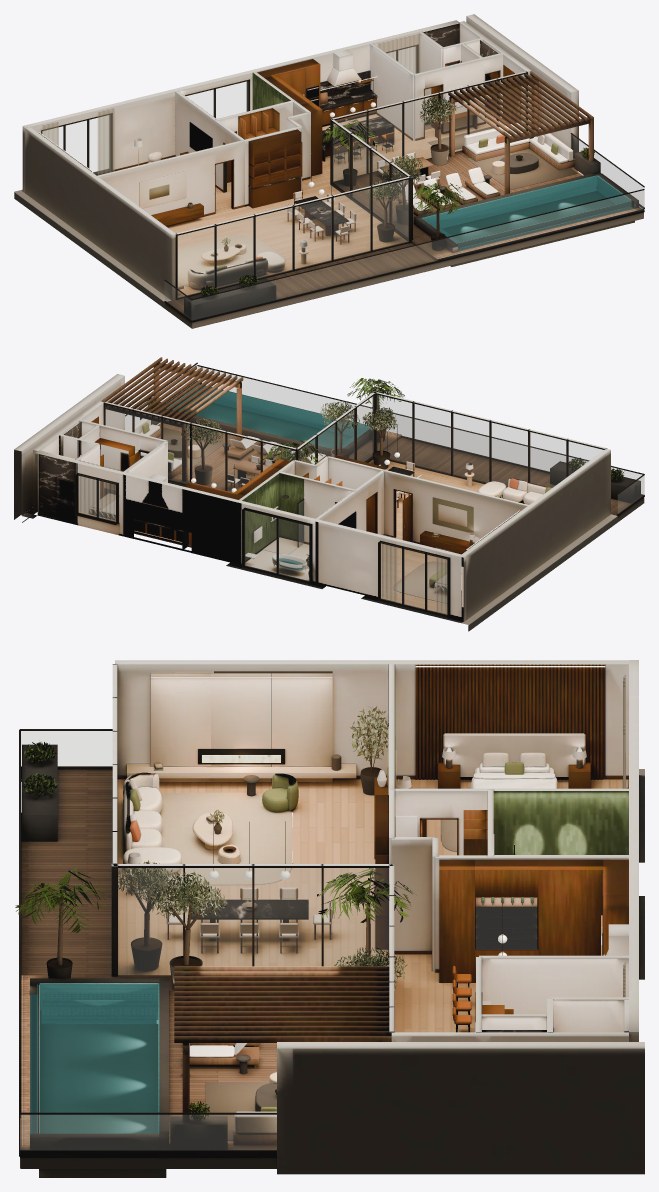
The model's file is cobertura-2048.glb.
3 views of the same model, one above another, from view 1: azimuth 30°, elevation 25°; view 2: azimuth 150°, elevation 25°; view 3: azimuth 270°, elevation 25° (orthographic). The views are drawn at different scales.
Parts seen in each view (by area): view 1: casco, itens, vidro, agua, folhas, cortinas; view 2: casco, itens, vidro, agua, folhas, cortinas; view 3: casco, itens, vidro, agua, folhas.
Boxes of the visible parts, x1=… form: casco: x1=14, y1=14, x2=644, y2=328; itens: x1=37, y1=22, x2=644, y2=322; vidro: x1=59, y1=62, x2=644, y2=320; agua: x1=422, y1=176, x2=632, y2=250; folhas: x1=200, y1=96, x2=594, y2=297; cortinas: x1=42, y1=34, x2=420, y2=175; casco: x1=14, y1=374, x2=644, y2=631; itens: x1=26, y1=357, x2=644, y2=615; vidro: x1=78, y1=364, x2=644, y2=614; agua: x1=167, y1=384, x2=371, y2=570; folhas: x1=146, y1=378, x2=624, y2=567; cortinas: x1=79, y1=460, x2=451, y2=613; casco: x1=20, y1=660, x2=644, y2=1177; itens: x1=16, y1=664, x2=628, y2=1156; vidro: x1=20, y1=731, x2=536, y2=1149; agua: x1=30, y1=984, x2=158, y2=1133; folhas: x1=15, y1=706, x2=412, y2=1121.
Bounding box in the file's own units: 23.63 × 3.94 × 15.95.
6 materials, 2 textured.
